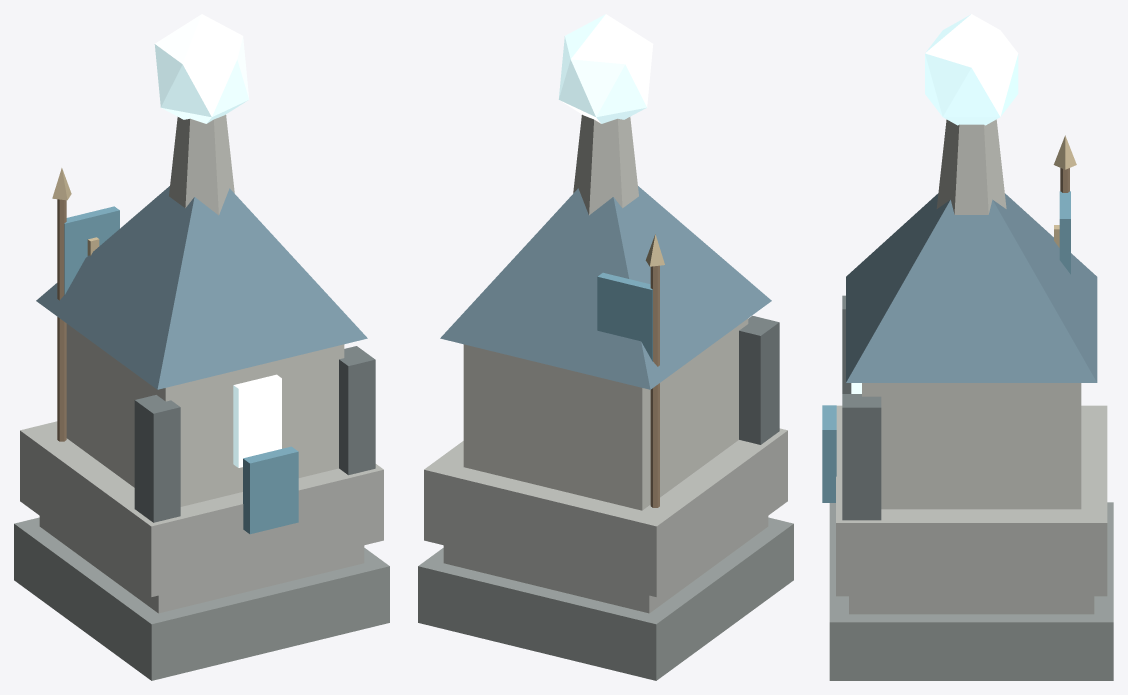
File: human_frost_t4.glb
The picture shows the model from 3 angles, left to right: view 1: azimuth 30°, elevation 25°; view 2: azimuth 150°, elevation 25°; view 3: azimuth 270°, elevation 25°; orthographic projection. The views are drawn at different scales.
Visible parts, largest first — view 1: human_frost_t4_MAT_roof, human_frost_t4_MAT_stone, human_frost_t4_MAT_light, human_frost_t4_MAT_dark, human_frost_t4_MAT_frost, human_frost_t4_MAT_iron, human_frost_t4_MAT_blue, human_frost_t4_MAT_wood; view 2: human_frost_t4_MAT_light, human_frost_t4_MAT_stone, human_frost_t4_MAT_roof, human_frost_t4_MAT_dark, human_frost_t4_MAT_frost, human_frost_t4_MAT_iron, human_frost_t4_MAT_blue, human_frost_t4_MAT_wood; view 3: human_frost_t4_MAT_roof, human_frost_t4_MAT_stone, human_frost_t4_MAT_light, human_frost_t4_MAT_dark, human_frost_t4_MAT_frost, human_frost_t4_MAT_iron, human_frost_t4_MAT_blue, human_frost_t4_MAT_gold.
Part boxes in pixels (<box>): human_frost_t4_MAT_roof: <box>36,186,367,389</box>; human_frost_t4_MAT_stone: <box>20,421,383,613</box>; human_frost_t4_MAT_light: <box>66,114,344,506</box>; human_frost_t4_MAT_dark: <box>14,517,389,680</box>; human_frost_t4_MAT_frost: <box>154,14,281,467</box>; human_frost_t4_MAT_iron: <box>134,346,375,522</box>; human_frost_t4_MAT_blue: <box>64,206,298,534</box>; human_frost_t4_MAT_wood: <box>57,199,66,441</box>; human_frost_t4_MAT_light: <box>463,114,748,510</box>; human_frost_t4_MAT_stone: <box>424,428,787,613</box>; human_frost_t4_MAT_roof: <box>440,186,771,389</box>; human_frost_t4_MAT_dark: <box>418,517,793,680</box>; human_frost_t4_MAT_frost: <box>558,14,653,123</box>; human_frost_t4_MAT_iron: <box>739,315,779,444</box>; human_frost_t4_MAT_blue: <box>597,272,652,361</box>; human_frost_t4_MAT_wood: <box>650,265,659,507</box>; human_frost_t4_MAT_roof: <box>846,193,1097,382</box>; human_frost_t4_MAT_stone: <box>836,405,1107,614</box>; human_frost_t4_MAT_light: <box>862,119,1081,509</box>; human_frost_t4_MAT_dark: <box>829,502,1113,680</box>; human_frost_t4_MAT_frost: <box>851,14,1018,393</box>; human_frost_t4_MAT_iron: <box>842,295,881,520</box>; human_frost_t4_MAT_blue: <box>822,191,1070,502</box>; human_frost_t4_MAT_gold: <box>1053,135,1076,247</box>.
Size of the model in its own units: 0.88 by 2.07 by 0.9025.
